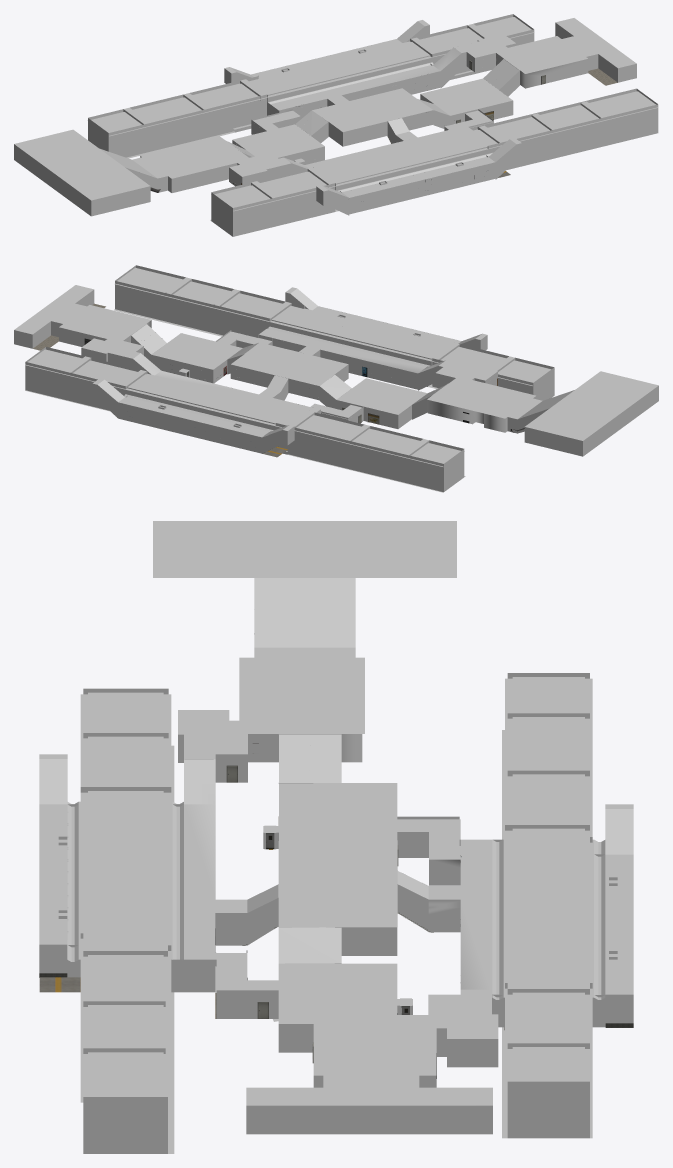
Rendered from Metro_World.obj.
3 views of the same model, one above another, from view 1: azimuth 30°, elevation 25°; view 2: azimuth 150°, elevation 25°; view 3: azimuth 270°, elevation 25° (orthographic). The views are drawn at different scales.
Parts seen in each view (by area): view 1: DSQUAD_train, DSQUAD_wall, DSQUAD_bot; view 2: DSQUAD_train, DSQUAD_wall, DSQUAD_bot; view 3: DSQUAD_train, DSQUAD_wall, DSQUAD_bot.
Part boxes in pixels (x1,y1,x2,y2): DSQUAD_train: (14,14,658,236); DSQUAD_wall: (118,22,636,215); DSQUAD_bot: (150,58,617,192); DSQUAD_train: (14,265,658,492); DSQUAD_wall: (14,290,549,453); DSQUAD_bot: (33,303,524,457); DSQUAD_train: (39,521,633,1153); DSQUAD_wall: (39,734,633,1134); DSQUAD_bot: (39,743,633,1078).
Bounding box in the file's own units: 187 × 17.15 × 86.03.
